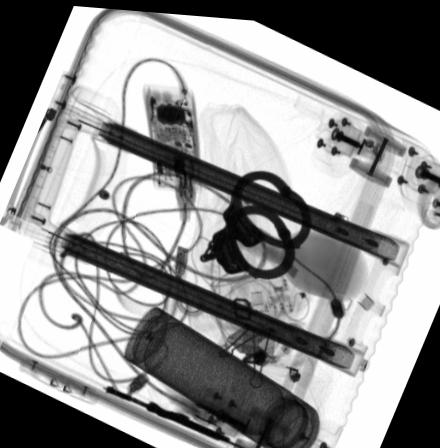Gun: (98, 380, 262, 448)
HandCuffs: (198, 166, 312, 278)
